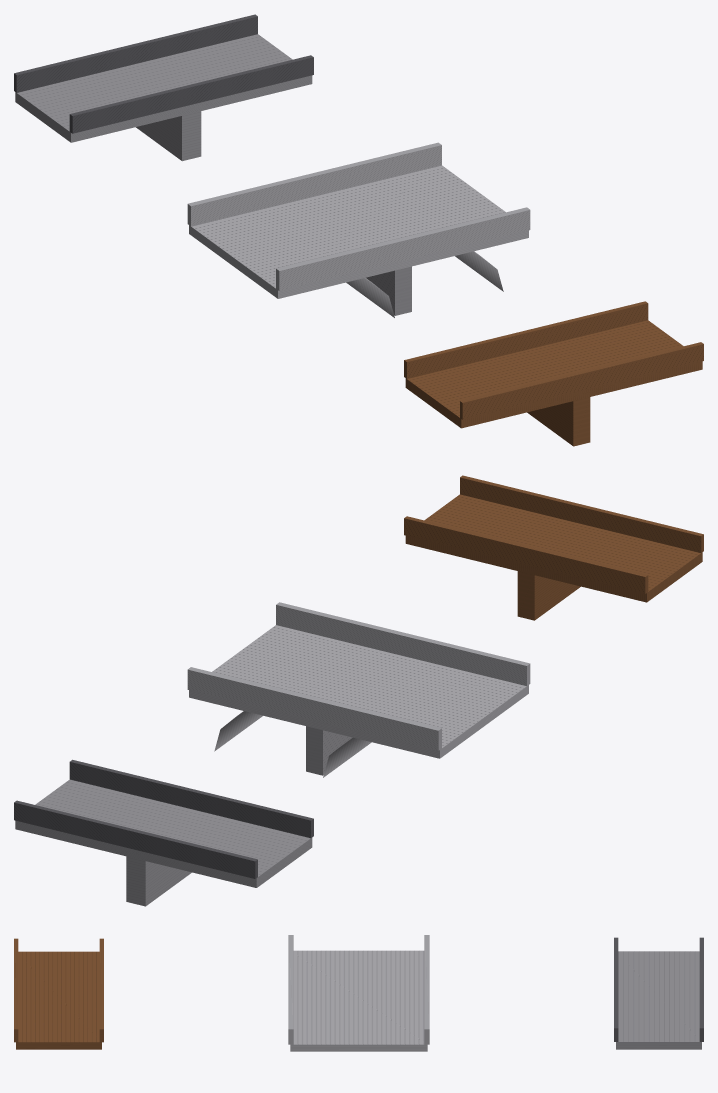
3 views of the same model, one above another, from view 1: azimuth 30°, elevation 25°; view 2: azimuth 150°, elevation 25°; view 3: azimuth 270°, elevation 25° (orthographic). The views are drawn at different scales.
Visible parts, largest first — view 1: node_component_11110_03_03188_003_01_gwangtong_bridge, node_component_11110_03_03188_003_02_mojeon_bridge, node_component_11110_03_03188_003_03_jangtong_bridge; view 2: node_component_11110_03_03188_003_01_gwangtong_bridge, node_component_11110_03_03188_003_02_mojeon_bridge, node_component_11110_03_03188_003_03_jangtong_bridge; view 3: node_component_11110_03_03188_003_01_gwangtong_bridge, node_component_11110_03_03188_003_02_mojeon_bridge, node_component_11110_03_03188_003_03_jangtong_bridge.
Part boxes in pixels (x1,y1,x2,y2): node_component_11110_03_03188_003_01_gwangtong_bridge: (187,142,530,317); node_component_11110_03_03188_003_02_mojeon_bridge: (14,14,313,161); node_component_11110_03_03188_003_03_jangtong_bridge: (404,301,703,446); node_component_11110_03_03188_003_01_gwangtong_bridge: (187,602,530,777); node_component_11110_03_03188_003_02_mojeon_bridge: (14,759,313,906); node_component_11110_03_03188_003_03_jangtong_bridge: (404,475,703,620); node_component_11110_03_03188_003_01_gwangtong_bridge: (288,935,429,1051); node_component_11110_03_03188_003_02_mojeon_bridge: (614,937,703,1049); node_component_11110_03_03188_003_03_jangtong_bridge: (14,938,103,1049).
Size of the model in its own units: 10.4 by 3.05 by 32.2.
4 materials, 4 textured.
